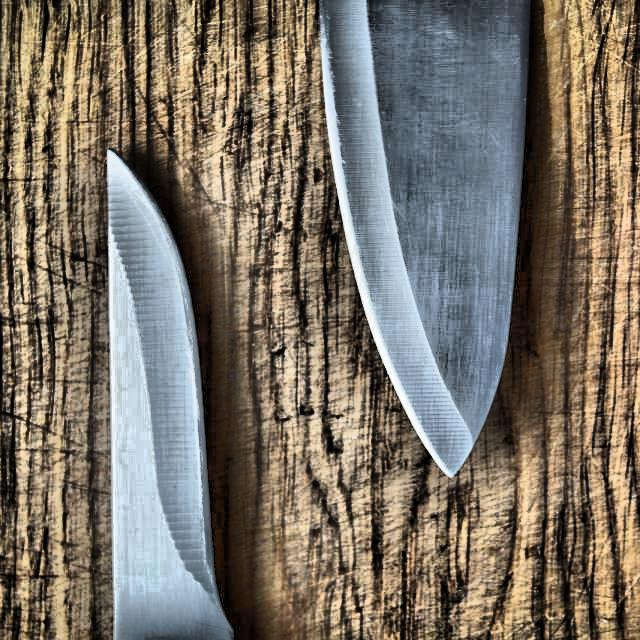knife: (310, 0, 550, 489), (98, 144, 250, 640)
